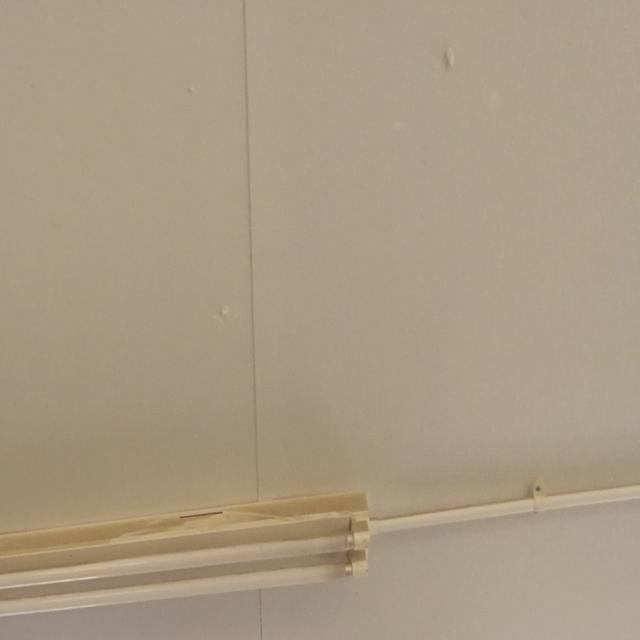fluorescent tube: (0, 462, 418, 640)
